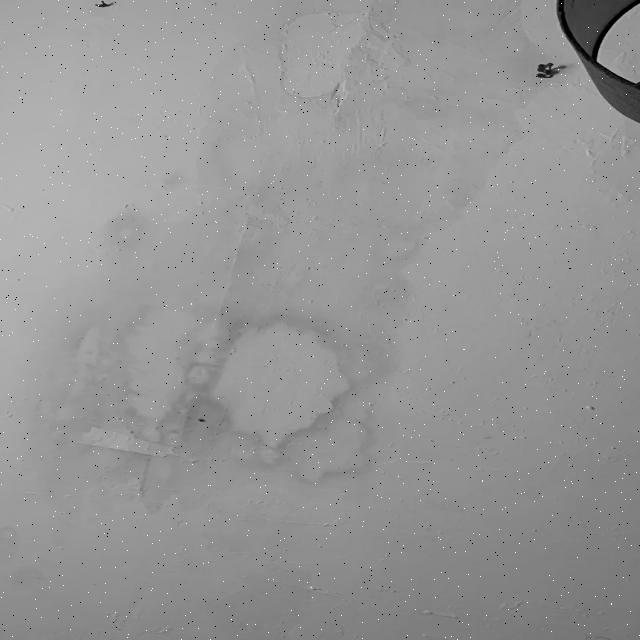stain marks: (138, 1, 556, 210), (0, 326, 408, 514), (55, 216, 452, 324)
